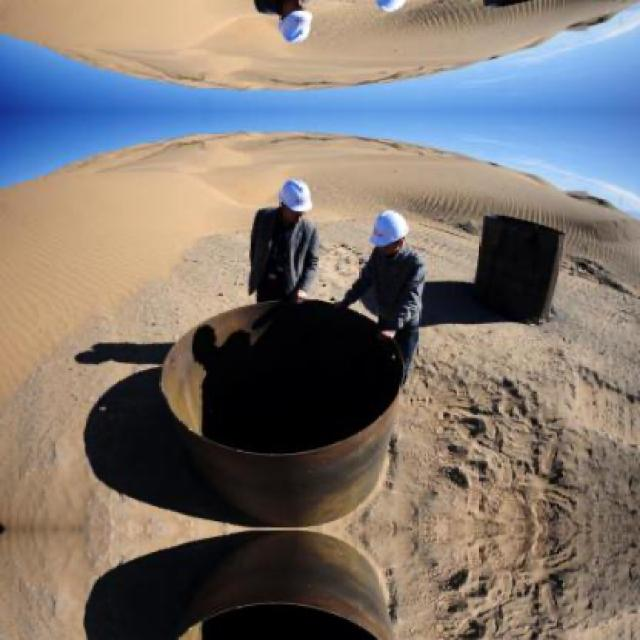con casco: (359, 197, 451, 273), (276, 157, 324, 235)
